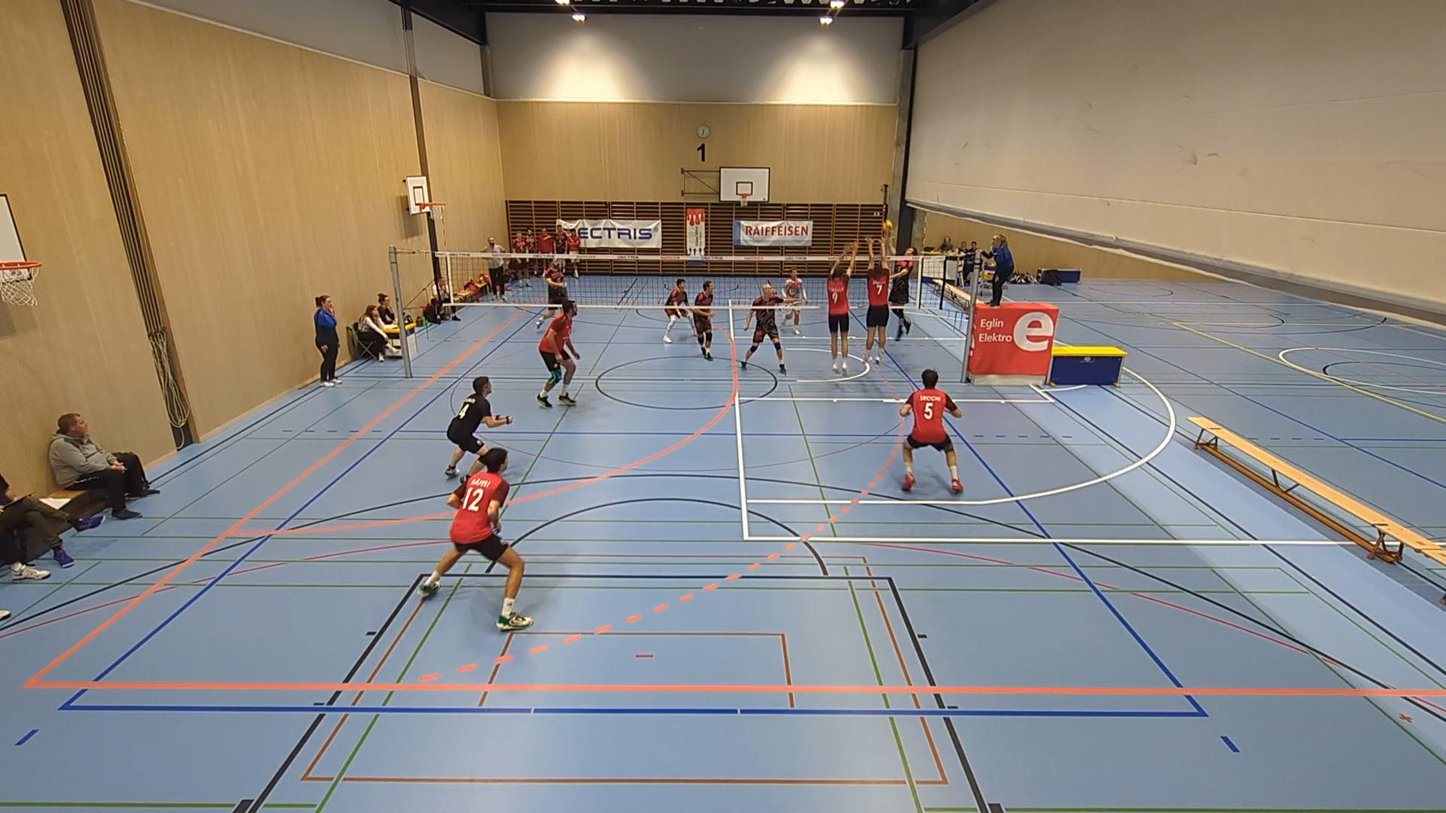attacco: (880, 235, 918, 343)
muro: (864, 242, 918, 370), (817, 240, 860, 376)
